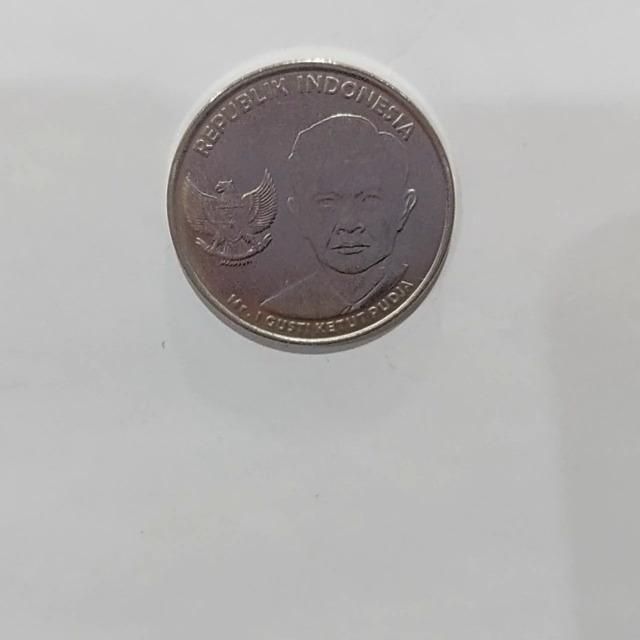Rp100: (164, 55, 457, 352)
